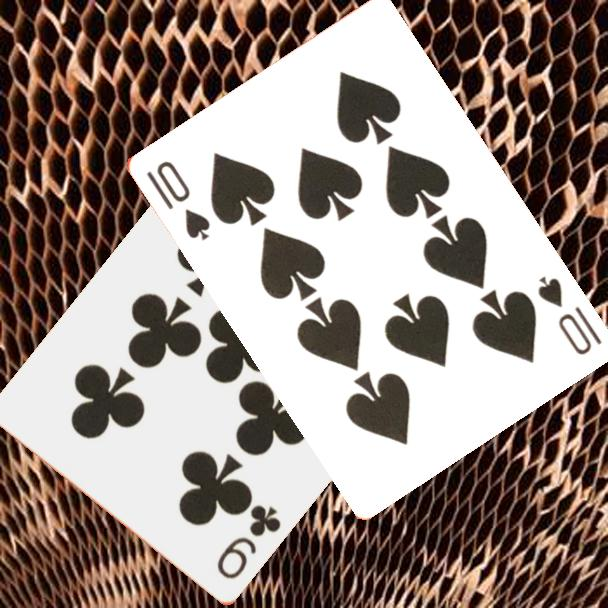c09: (213, 501, 284, 583)
s10: (142, 157, 213, 244), (533, 272, 604, 358)
